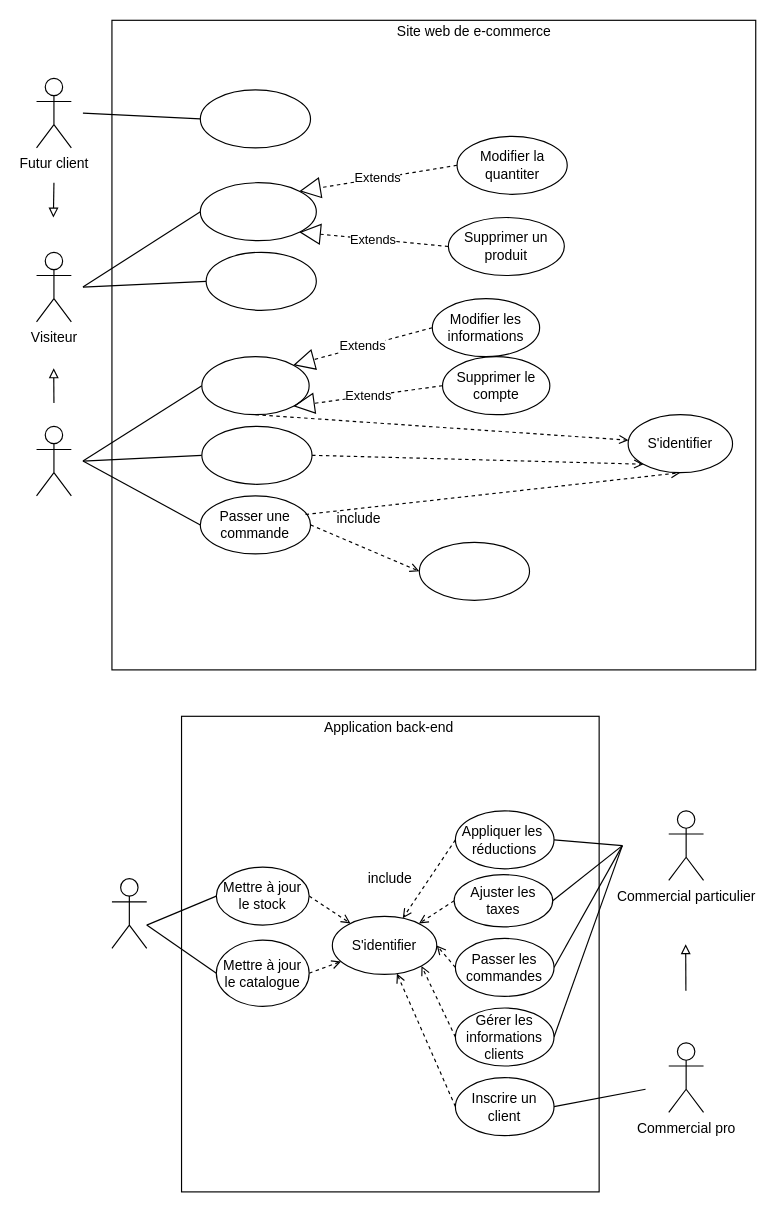
The diagram is 776 pixels wide and 1212 high, and some of its shapes have lost their labels. The centre of each missing label's shape, as x and y in pixels:
"Acceder au catalogue" goes at (x=260, y=280).
"Ajouter un produit" goes at (x=257, y=211).
"client" goes at (x=53, y=460).
"Consulter le profil" goes at (x=255, y=385).
"Contacter le service client" goes at (x=256, y=454).
"Employé" goes at (x=129, y=913).
"Payer" goes at (x=474, y=570).
"S'inscrire" goes at (x=255, y=118).
